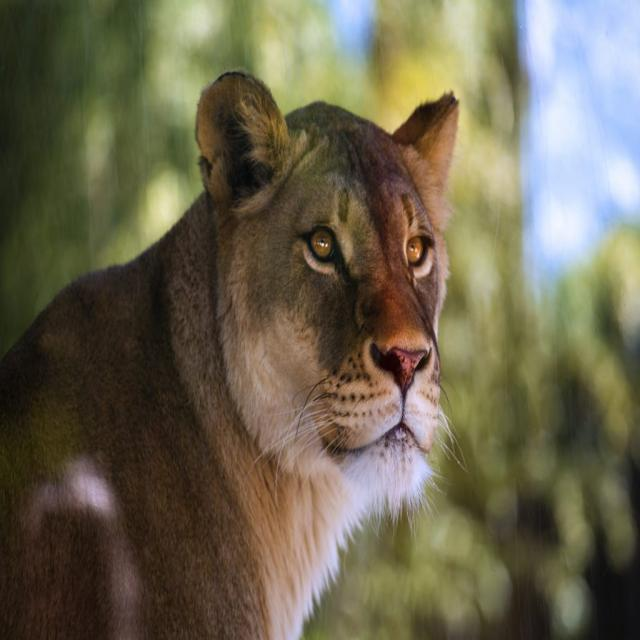Lion: (0, 68, 467, 638)
